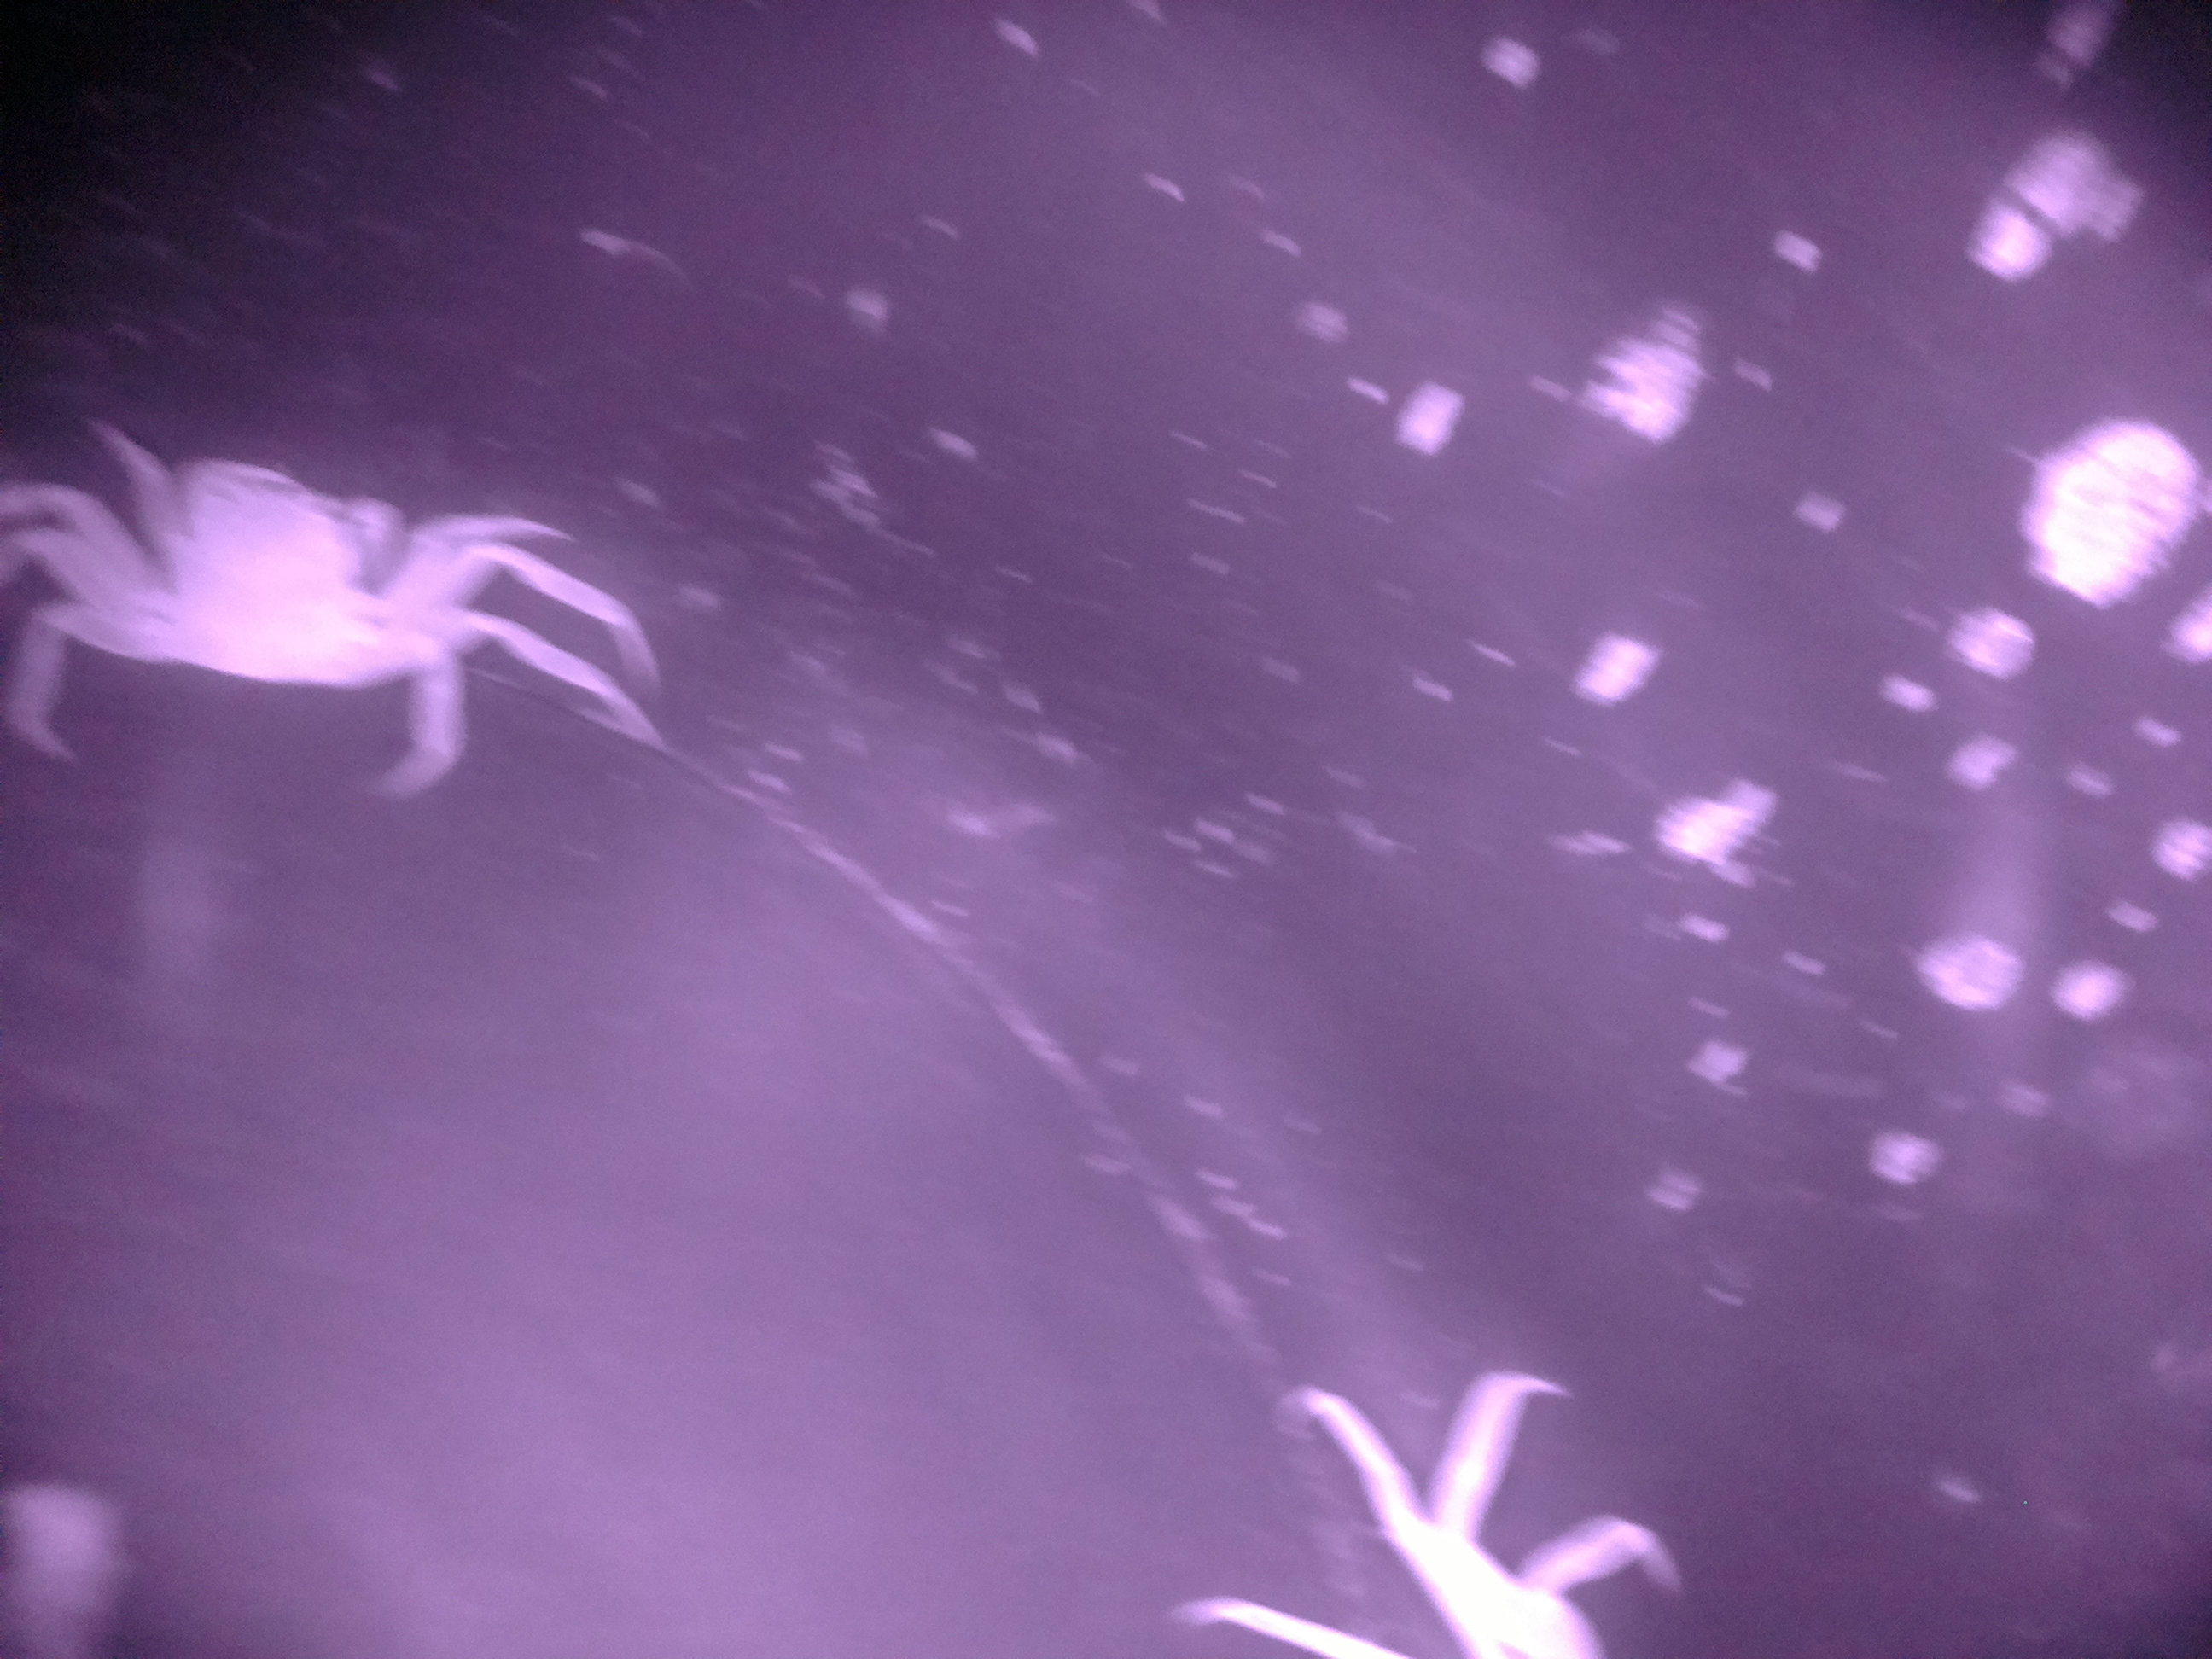Crab: (24, 364, 529, 824)
